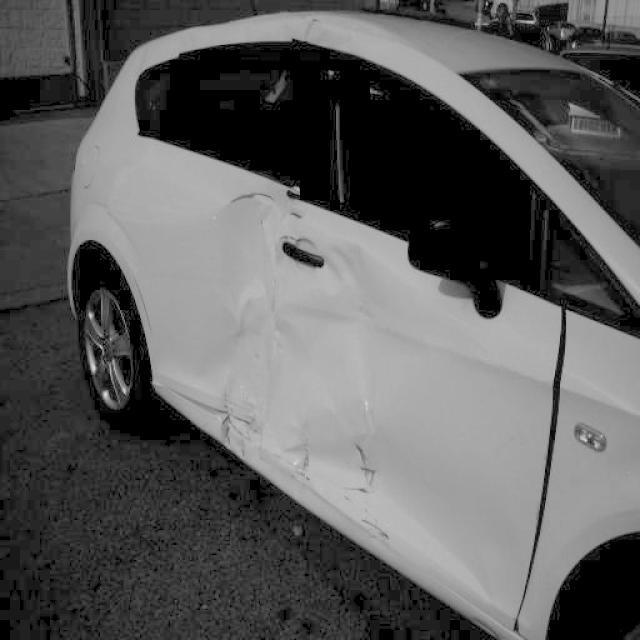car damage: (214, 192, 281, 335), (332, 336, 376, 448), (217, 369, 266, 458), (301, 242, 364, 299), (264, 317, 299, 403), (341, 438, 379, 495), (321, 304, 391, 332), (360, 517, 391, 542), (298, 443, 312, 482), (288, 212, 302, 218)
